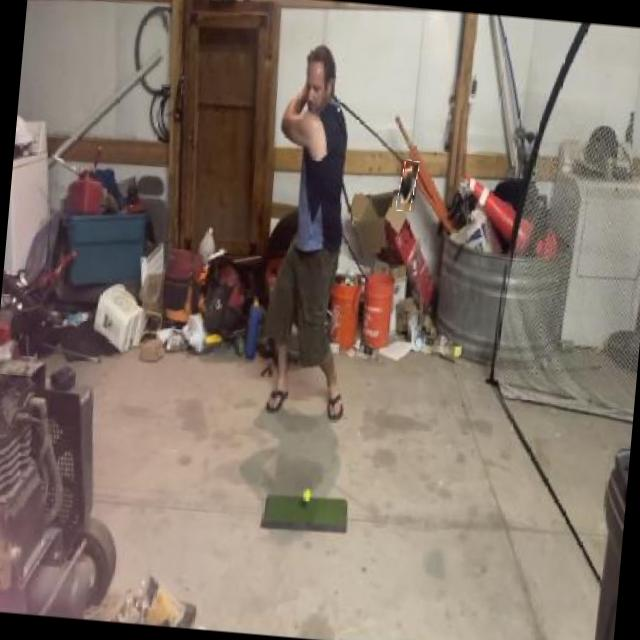club head: (397, 160, 418, 212)
